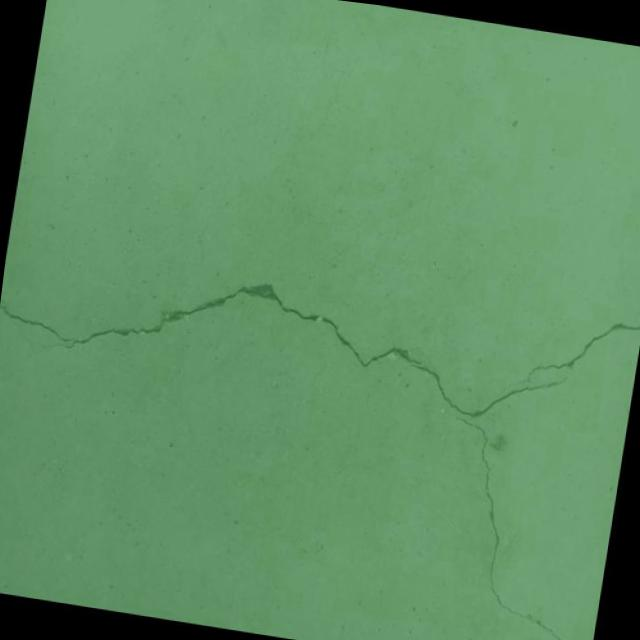crack: (0, 241, 633, 640), (510, 302, 640, 405), (312, 14, 352, 135)
